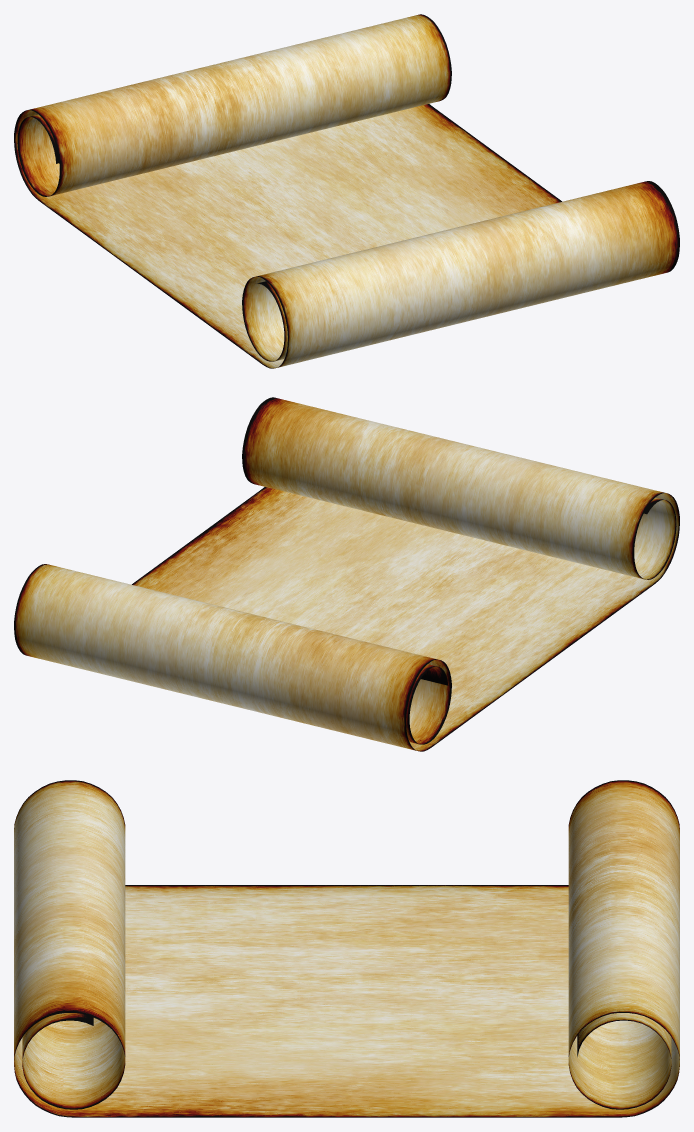
File: Scroll.glb
3 renders of one model, top to bottom at view 1: azimuth 30°, elevation 25°; view 2: azimuth 150°, elevation 25°; view 3: azimuth 270°, elevation 25°, orthographic. The views are drawn at different scales.
Parts seen in each view (by area): view 1: Object_8; view 2: Object_8; view 3: Object_8.
Part boxes in pixels (box(x1,y1,x2,y2)): Object_8: box(14, 14, 679, 368); Object_8: box(14, 397, 679, 751); Object_8: box(14, 780, 679, 1117).
Bounding box in the file's own units: 2 × 0.4206 × 2.42.
Materials: 1 (1 with a texture image).
